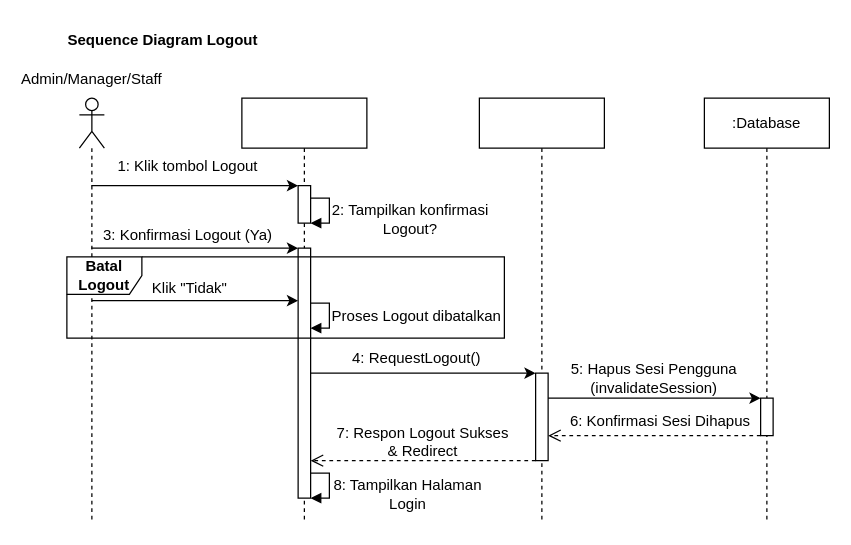
This 851x545 diagram has some shape labels left out. Here are the shapes that lost their labels. From the top down, the box of each, then its label:
(241, 97, 367, 523): :HalamanAplikasi
(478, 97, 604, 523): :Backend
